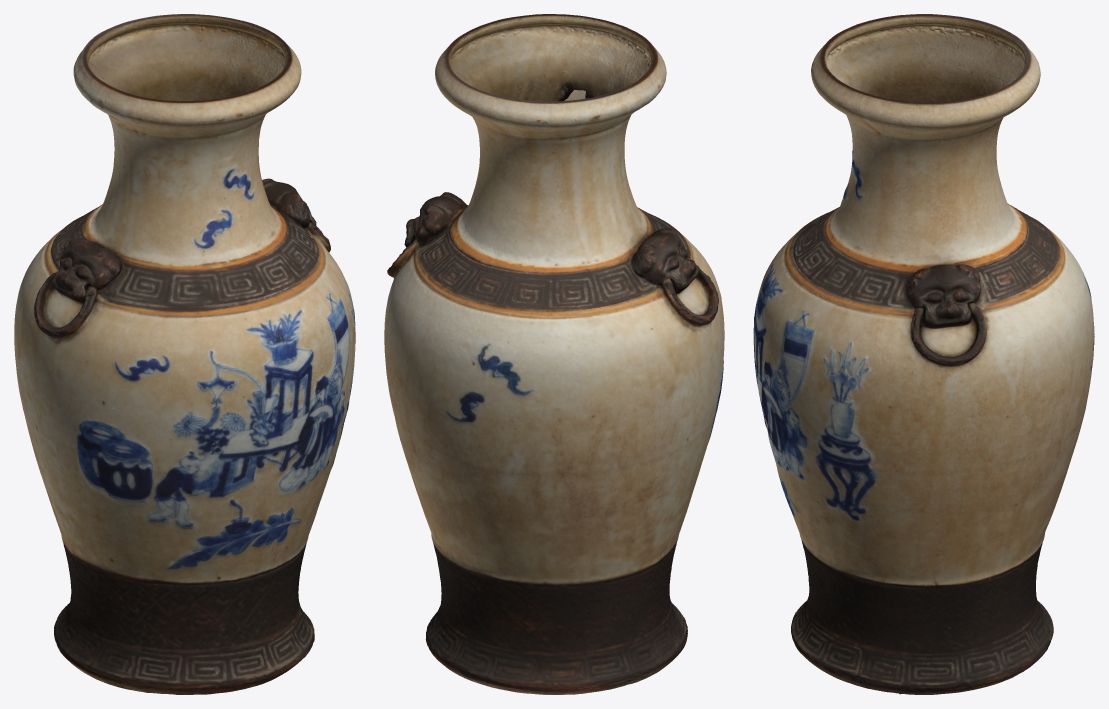
The model's file is vase-low.glb.
3 views of the same model, side by side, from view 1: azimuth 30°, elevation 25°; view 2: azimuth 150°, elevation 25°; view 3: azimuth 270°, elevation 25° (orthographic).
Visible parts, largest first — view 1: Model_material0_0; view 2: Model_material0_0; view 3: Model_material0_0.
Part boxes in pixels (x1,y1,x2,y2): Model_material0_0: [14, 14, 355, 694]; Model_material0_0: [384, 14, 724, 694]; Model_material0_0: [753, 14, 1094, 694].
Bounding box in the file's own units: 109470 × 206014 × 108302.
Materials: 1 (1 with a texture image).
